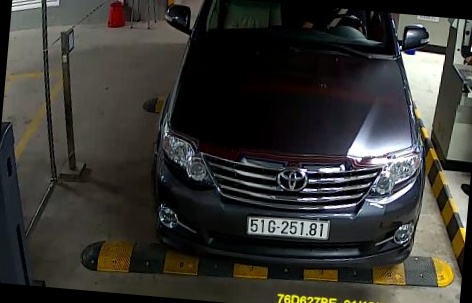plate: (246, 212, 331, 243)
